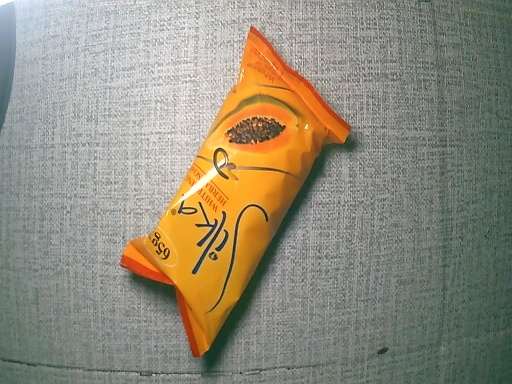plastic: (119, 24, 357, 368)
